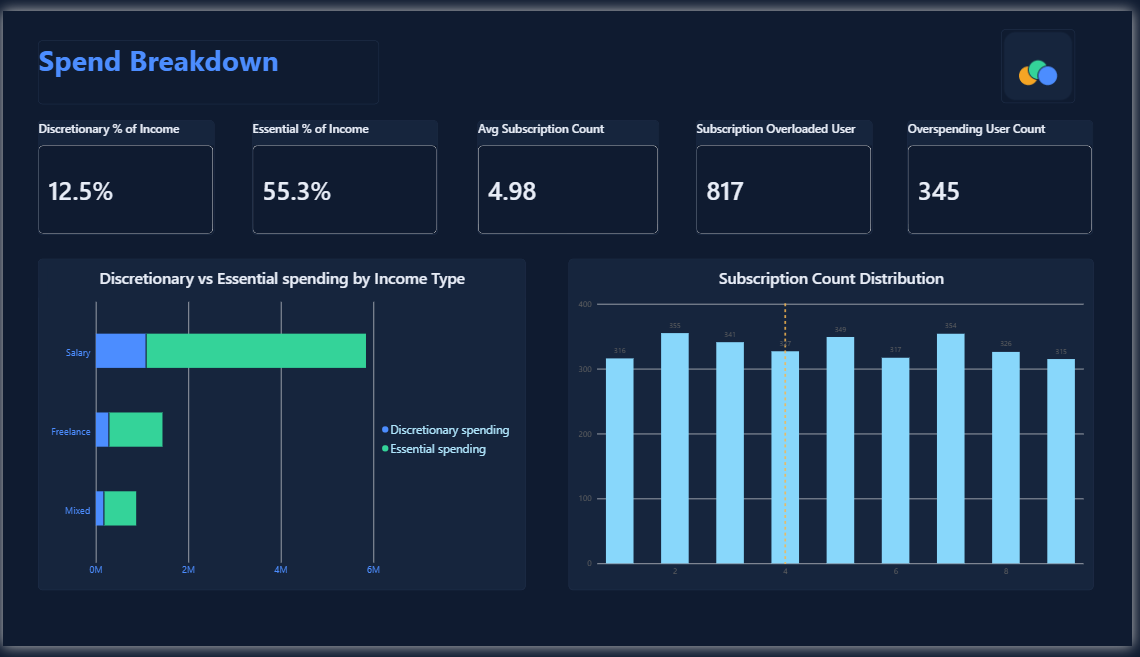

Layout of this report page (visuals, bound fields, positions):
{"tool":"powerbi","page":{"name":"Spend Breakdown","canvas":[1920,1080],"ordinal":2},"visuals":[{"type":"image","box":[1696.8,31.8,125.6,125.6],"z":0},{"type":"cardVisual","title":"Discretionary % of Income","fields":{"Data":["Fact_Finance.Discretionary % of Income"]},"box":[59.1,186.3,299.8,195.3],"z":1000},{"type":"cardVisual","title":"Subscription Overloaded User","fields":{"Data":["Fact_Finance.Subscription Overloaded Users"]},"box":[1178.9,186.3,299.8,195.3],"z":2000},{"type":"cardVisual","title":"Essential % of Income","fields":{"Data":["Fact_Finance.Essential % of Income"]},"box":[424.8,186.3,315.7,195.3],"z":3000},{"type":"cardVisual","title":"Avg Subscription Count","fields":{"Data":["Fact_Finance.Avg Subscription Count"]},"box":[806.4,186.3,308.9,195.3],"z":4000},{"type":"cardVisual","title":"Overspending User Count","fields":{"Data":["Fact_Finance.Overspending User Count"]},"box":[1537.8,186.3,315.7,195.3],"z":5000},{"type":"barChart","title":"Discretionary  vs Essential spending by Income Type","fields":{"Y":["Sum(Fact_Finance.discretionary_spending)","Sum(Fact_Finance.essential_spending)"],"Category":["Fact_Finance.income_type"]},"box":[59.1,422.5,829.1,563.3],"z":6000},{"type":"columnChart","title":"Subscription  Count  Distribution","fields":{"Category":["Fact_Finance.subscription_services"],"Y":["CountNonNull(Fact_Finance.subscription_services)"]},"box":[960.8,422.5,892.7,563.3],"z":7000},{"type":"textbox","box":[59.4,49.2,579.7,108.6],"z":8000}]}

Visuals, with their boxes in screenshot pixels (x1, y1, x2, y2), scaled from the page's 1920x1080 canvas onto the 1140x657 screenshot:
image: 1007 19 1082 96
"Discretionary % of Income" cardVisual: 35 113 213 232
"Subscription Overloaded User" cardVisual: 700 113 878 232
"Essential % of Income" cardVisual: 252 113 440 232
"Avg Subscription Count" cardVisual: 479 113 662 232
"Overspending User Count" cardVisual: 913 113 1101 232
"Discretionary  vs Essential spending by Income Type" barChart: 35 257 527 600
"Subscription  Count  Distribution" columnChart: 570 257 1101 600
textbox: 35 30 379 96
